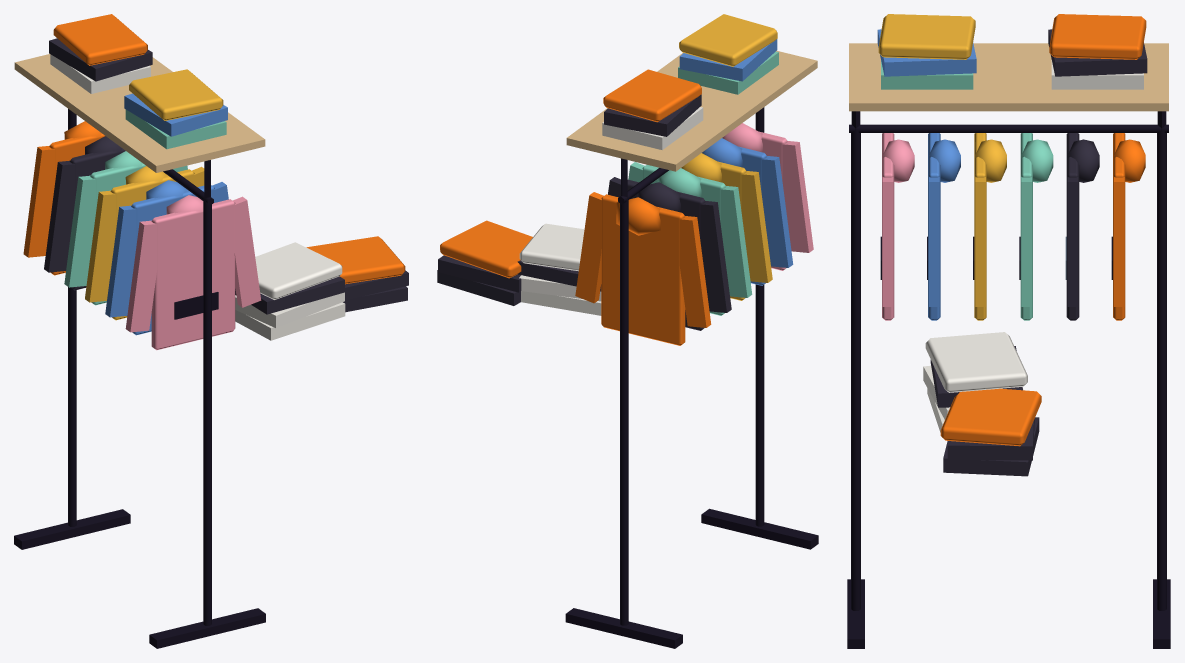
Rendered from station_buffer_ausstattung_2_3.glb.
3 renders of one model, left to right at view 1: azimuth 30°, elevation 25°; view 2: azimuth 150°, elevation 25°; view 3: azimuth 270°, elevation 25°, orthographic. The views are drawn at different scales.
Parts seen in each view (by area): view 1: station_buffer_ausstattung_2_3; view 2: station_buffer_ausstattung_2_3; view 3: station_buffer_ausstattung_2_3.
Part boxes in pixels (<box>): station_buffer_ausstattung_2_3: <box>14,14,408,648</box>; station_buffer_ausstattung_2_3: <box>437,14,818,648</box>; station_buffer_ausstattung_2_3: <box>847,14,1170,648</box>.
Size of the model in its own units: 1.15 by 1.83 by 0.91.
